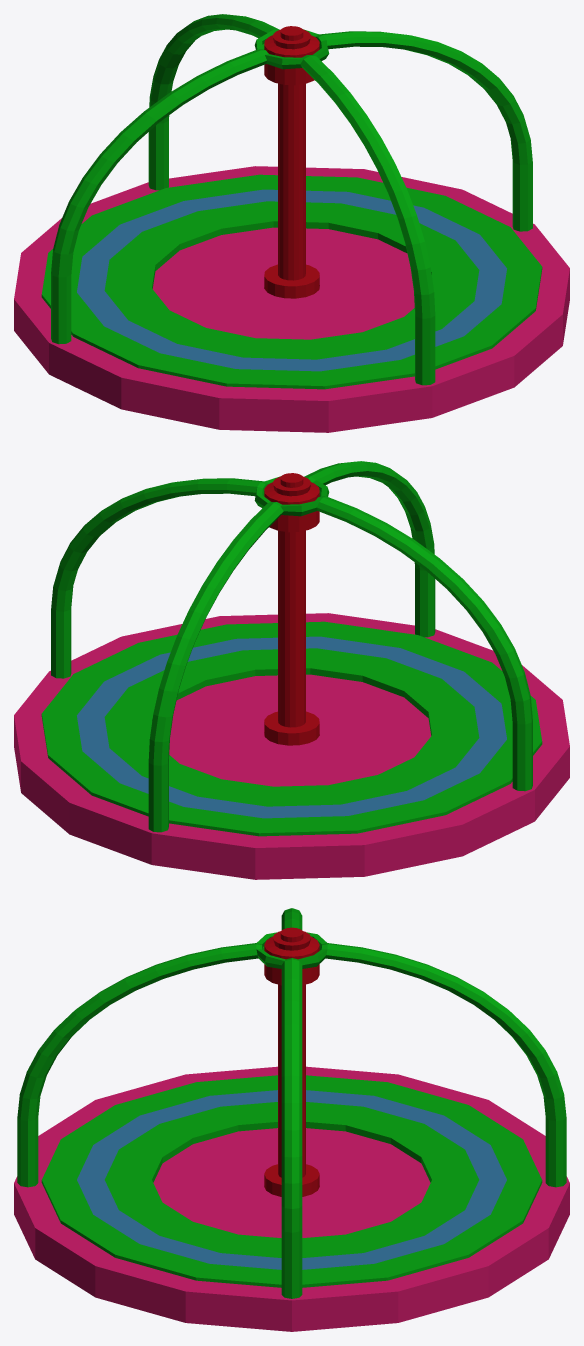
Rendered from roundabout.glb.
3 views of the same model, one above another, from view 1: azimuth 30°, elevation 25°; view 2: azimuth 150°, elevation 25°; view 3: azimuth 270°, elevation 25° (orthographic).
Bounding box in the file's own units: 10 × 5.6 × 10.
